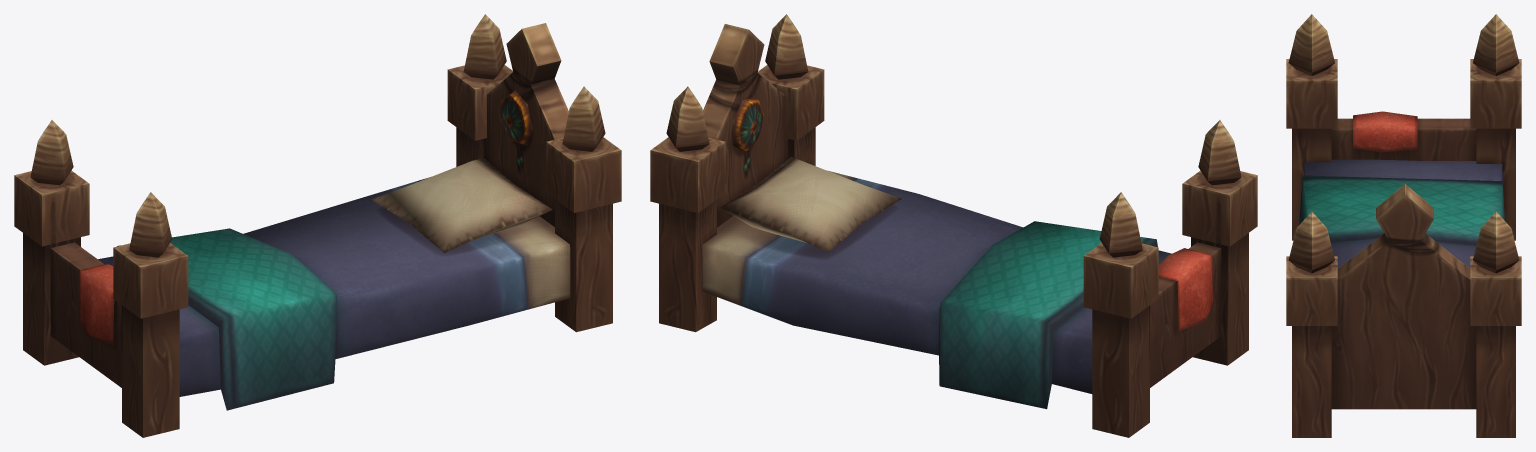
The model's file is bed.FBX.
The picture shows the model from 3 angles, left to right: view 1: azimuth 30°, elevation 25°; view 2: azimuth 150°, elevation 25°; view 3: azimuth 270°, elevation 25°; orthographic projection. The views are drawn at different scales.
Parts seen in each view (by area): view 1: bed; view 2: bed; view 3: bed.
Part boxes in pixels (left/top/right/bottom): bed: left=14, top=14, right=621, bottom=437; bed: left=650, top=14, right=1257, bottom=437; bed: left=1286, top=14, right=1521, bottom=437.
Bounding box in the file's own units: 175 × 90.52 × 79.28.
